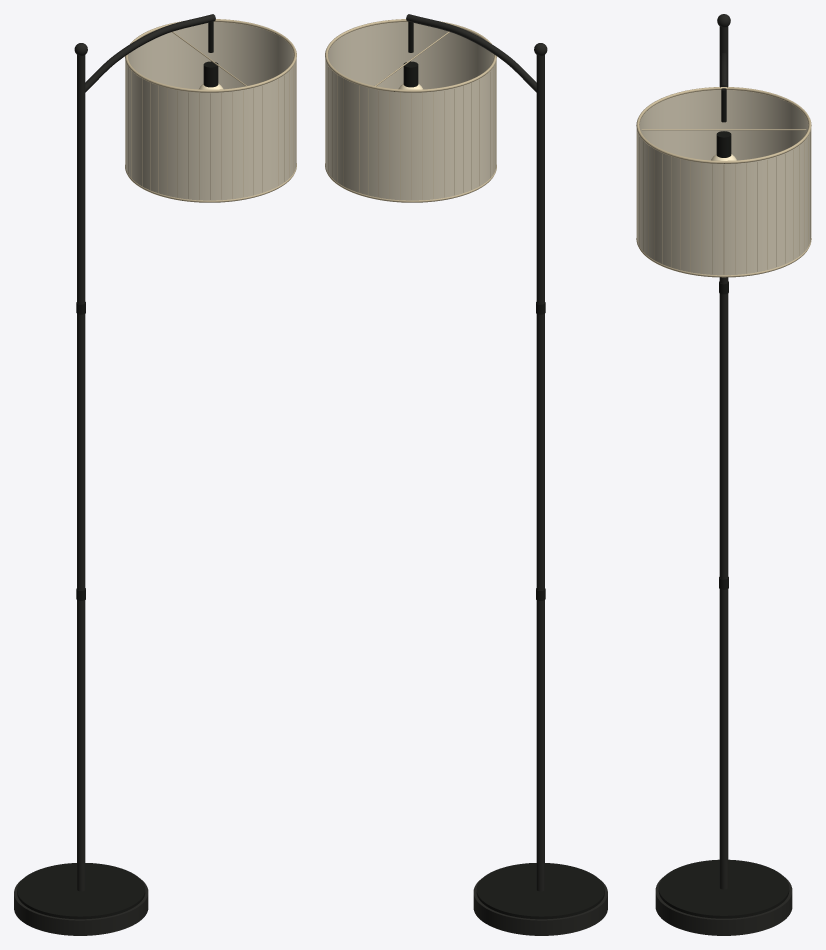
Rendered from ambimall-floor-lamp.glb.
3 views of the same model, side by side, from view 1: azimuth 30°, elevation 25°; view 2: azimuth 150°, elevation 25°; view 3: azimuth 270°, elevation 25° (orthographic). The views are drawn at different scales.
Visible parts, largest first — view 1: Beige linen drum, Powder coated charcoal, Black metal edge, Linen seam and weave; view 2: Beige linen drum, Powder coated charcoal, Black metal edge, Linen seam and weave; view 3: Beige linen drum, Powder coated charcoal, Black metal edge, Linen seam and weave.
Part boxes in pixels (x1,y1,x2,y2): Beige linen drum: [125, 22, 296, 200]; Powder coated charcoal: [14, 14, 215, 935]; Black metal edge: [17, 21, 218, 919]; Linen seam and weave: [125, 19, 296, 202]; Beige linen drum: [325, 22, 496, 200]; Powder coated charcoal: [406, 14, 607, 935]; Black metal edge: [403, 21, 604, 919]; Linen seam and weave: [325, 19, 496, 202]; Beige linen drum: [637, 90, 810, 275]; Powder coated charcoal: [655, 14, 792, 935]; Black metal edge: [658, 88, 789, 918]; Linen seam and weave: [636, 87, 811, 277].
Size of the model in its own units: 0.5 by 1.57 by 0.2794.
